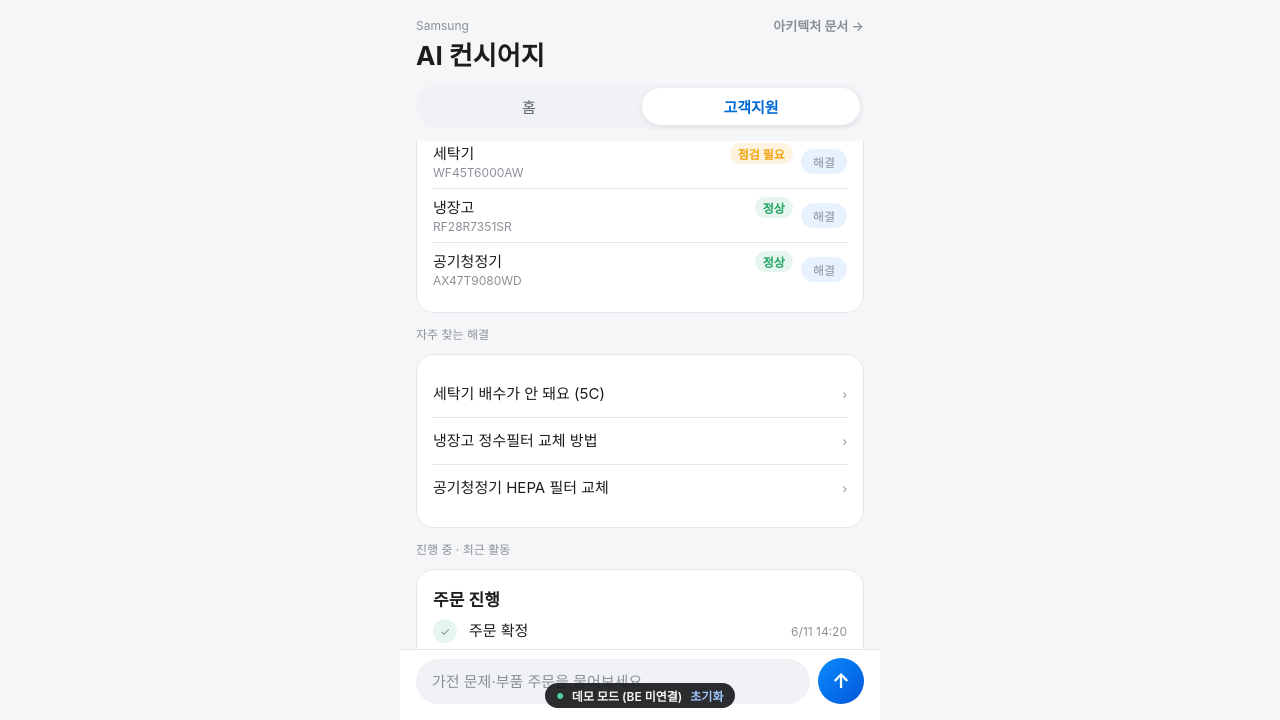
it: CS quick action opens chat with that question
The width and height of the screenshot is (1280, 720).
(page scrolled)
Click the element with test id "cs-faq-0" at (640, 394), box left=433, top=371, right=847, bottom=418
(page scrolled)
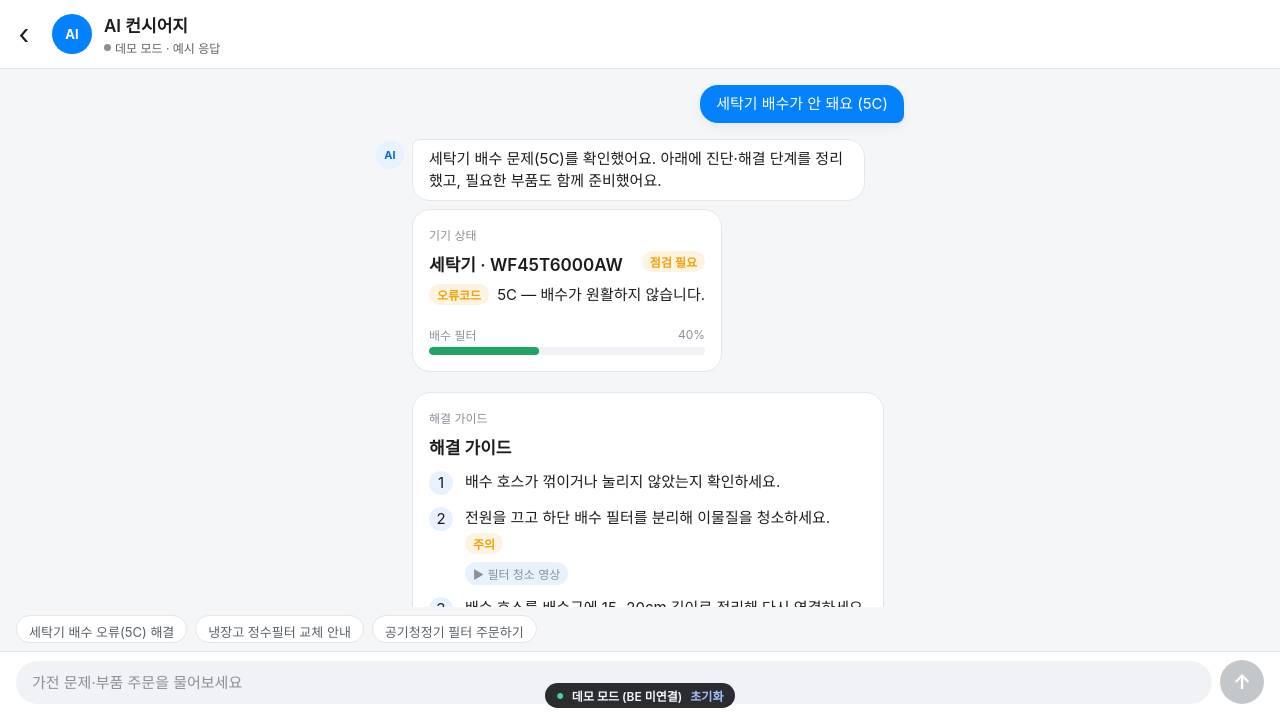
Expected: the text "세탁기 배수가 안 돼요 (5C)" is shown, left=716, top=93, right=888, bottom=115
Result: the element with test id "screen-chat" is shown
